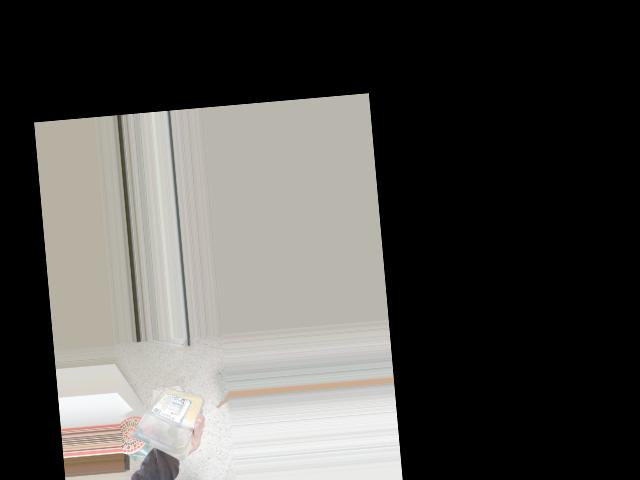cheese: (127, 379, 199, 459)
